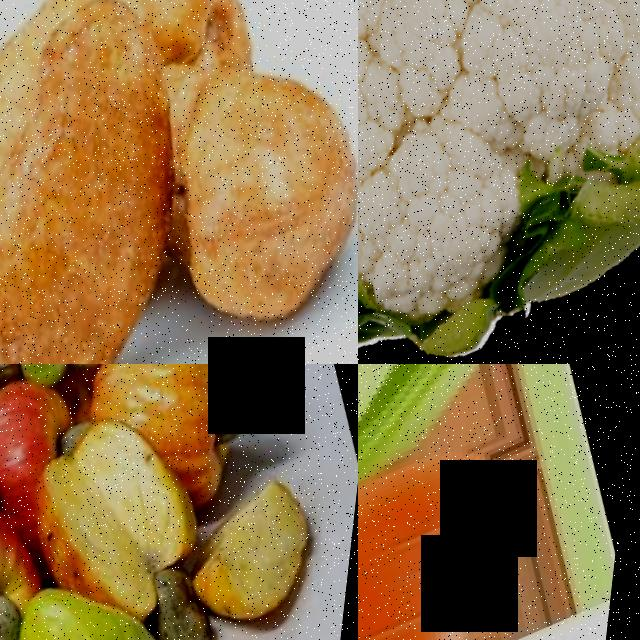carrot: (358, 364, 640, 640)
cashew: (0, 68, 239, 364), (152, 0, 358, 332), (189, 364, 282, 465), (137, 547, 237, 640), (0, 550, 68, 640), (5, 364, 136, 403)
cauliflower: (358, 0, 640, 364)
